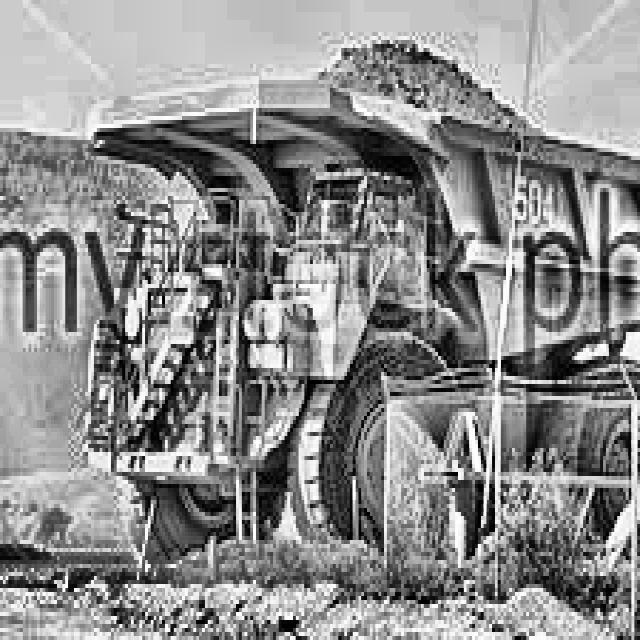dump_truck: (77, 12, 640, 628)
